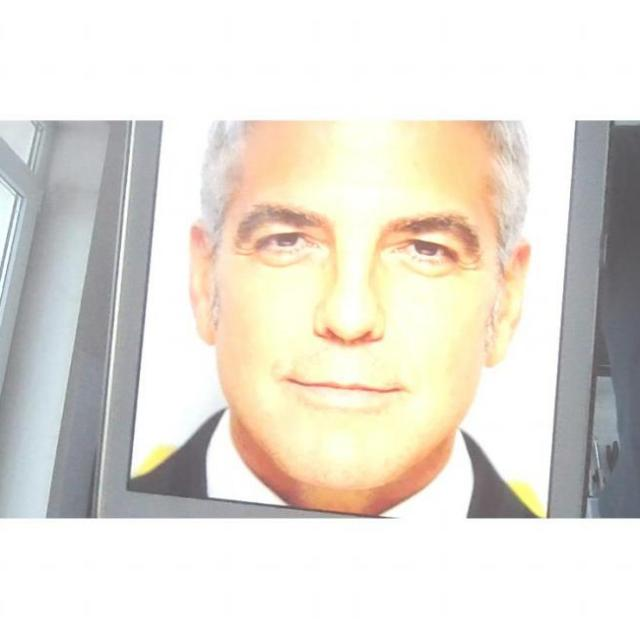device: (82, 119, 624, 517)
